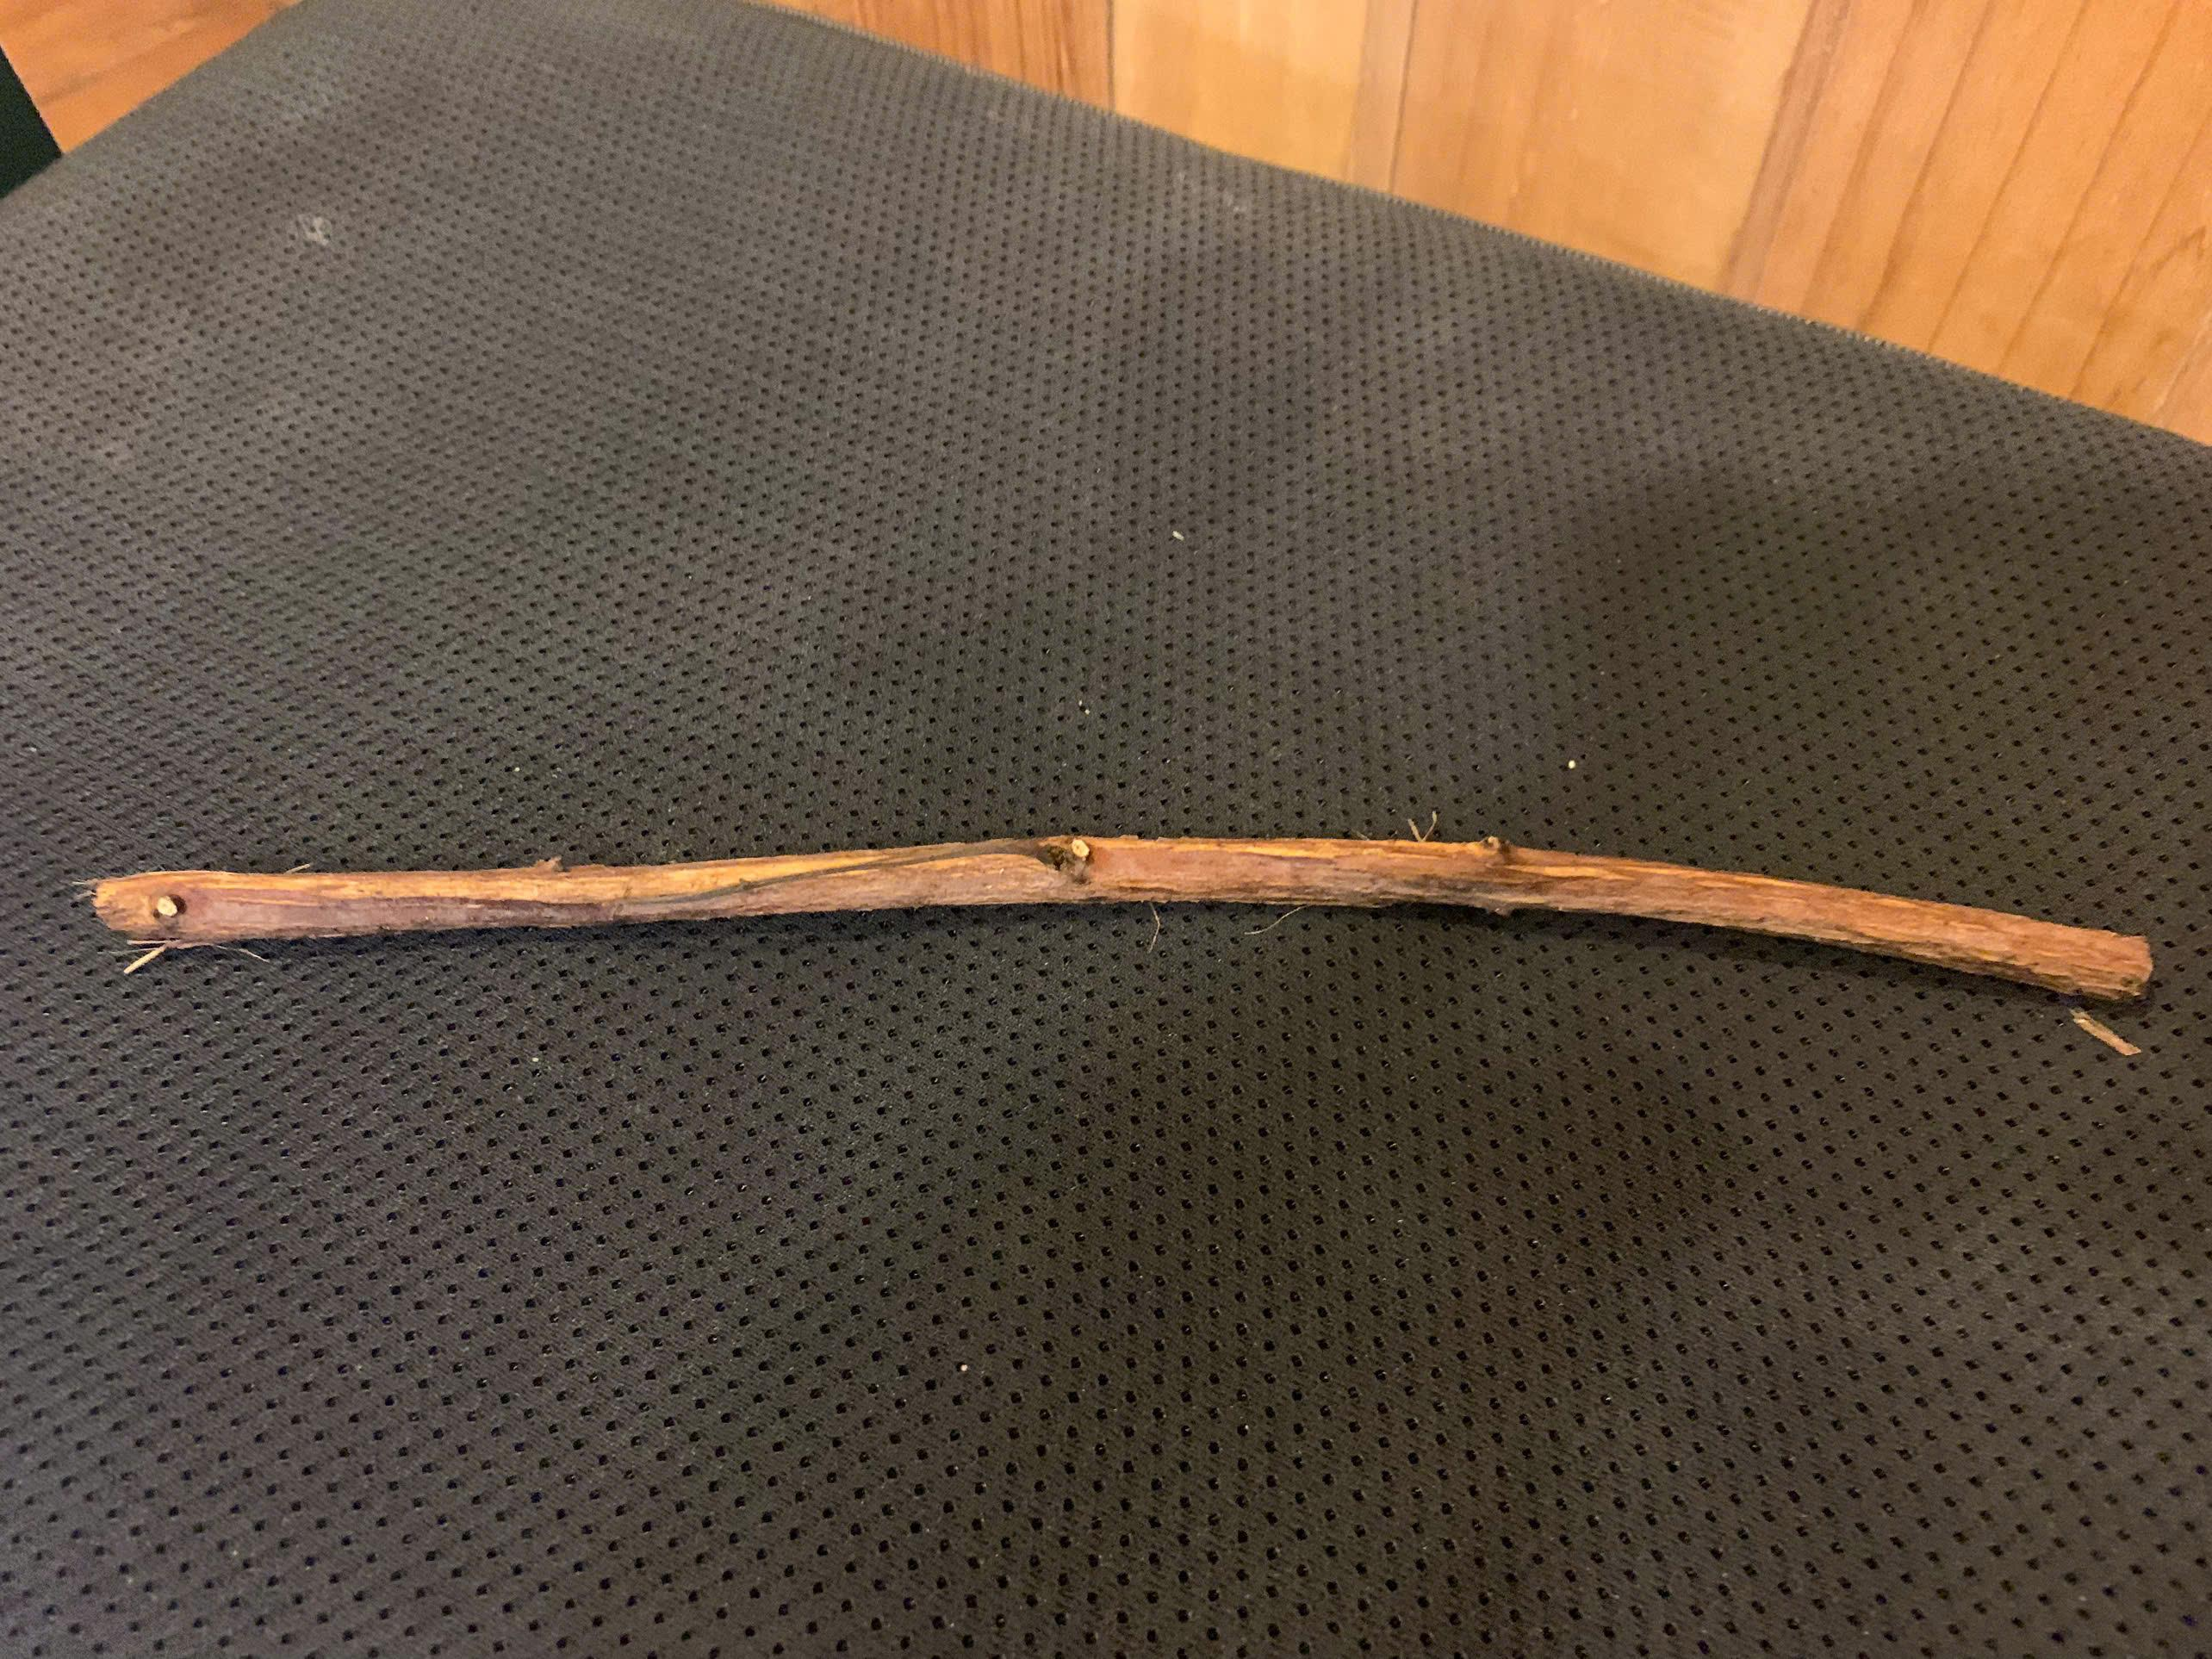Huu co: (85, 833, 2158, 1006)
